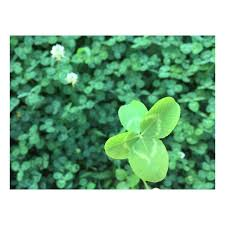4-clover: (105, 97, 181, 182)
